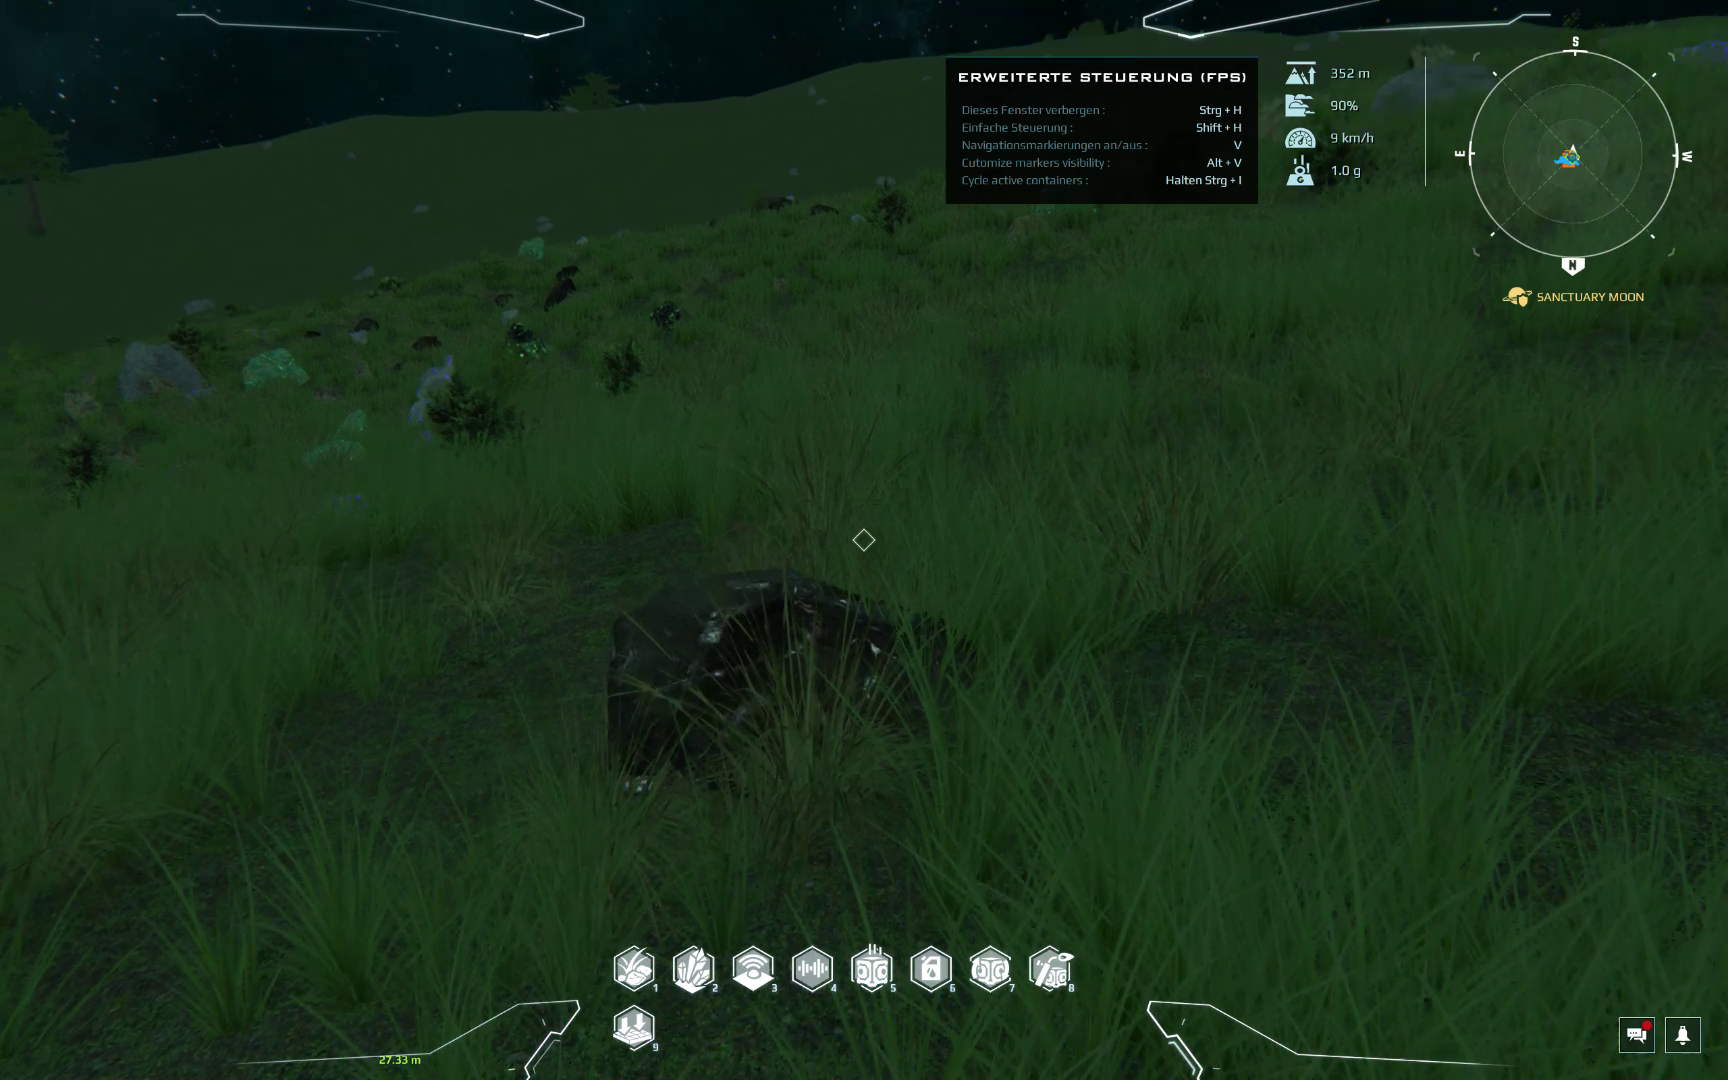Ore: (600, 565, 977, 788), (300, 408, 371, 475), (236, 345, 315, 389), (542, 272, 577, 314), (646, 302, 685, 332), (511, 335, 550, 362), (515, 234, 550, 263), (806, 200, 840, 221), (411, 333, 448, 352), (500, 317, 530, 338), (347, 314, 377, 331), (301, 328, 323, 341)
